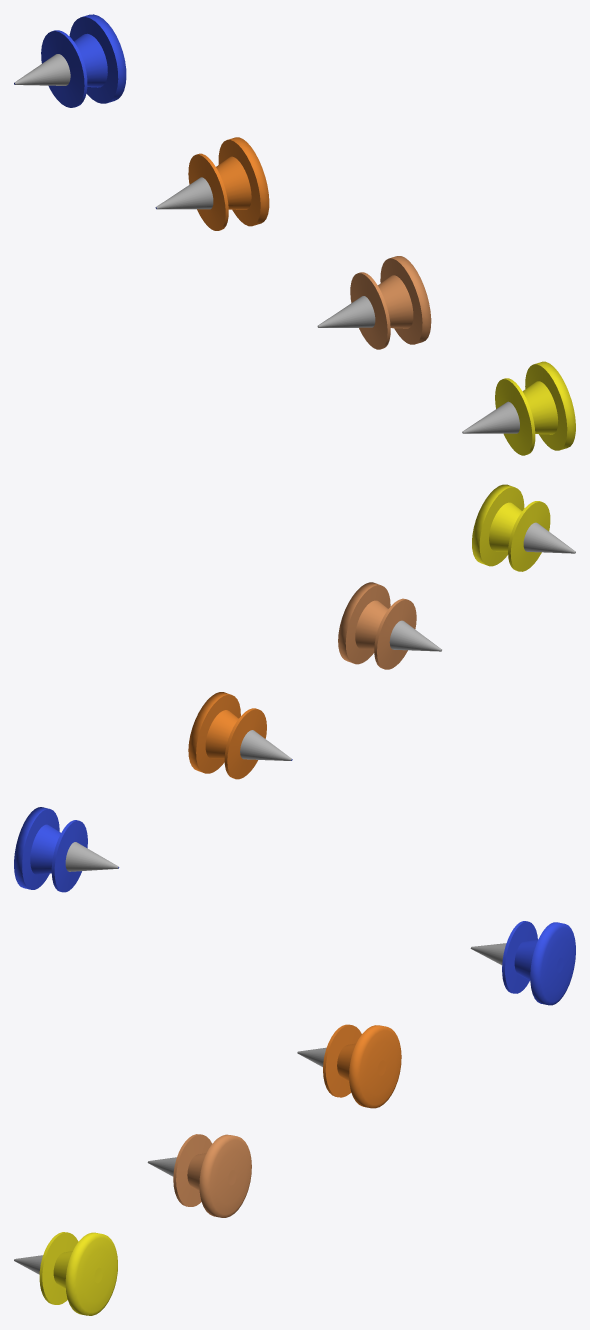
Rendered from Pins.fbx.
3 views of the same model, one above another, from view 1: azimuth 30°, elevation 25°; view 2: azimuth 150°, elevation 25°; view 3: azimuth 330°, elevation 25° (orthographic). The views are drawn at different scales.
Visible parts, largest first — view 1: Pin blue, Pin red, Pin green, Pin yellow; view 2: Pin red, Pin green, Pin yellow, Pin blue; view 3: Pin red, Pin yellow, Pin green, Pin blue.
Boxes of the visible parts, x1,y1,x2,y2 form: Pin blue: [14, 14, 126, 107]; Pin red: [155, 137, 269, 230]; Pin green: [317, 256, 431, 349]; Pin yellow: [462, 361, 575, 455]; Pin red: [188, 692, 292, 779]; Pin green: [338, 582, 441, 669]; Pin yellow: [472, 484, 575, 571]; Pin blue: [14, 807, 119, 892]; Pin red: [297, 1024, 401, 1108]; Pin yellow: [14, 1232, 117, 1315]; Pin green: [147, 1134, 251, 1217]; Pin blue: [470, 921, 575, 1005].
Size of the model in its own units: 62.41 by 45.11 by 482.
